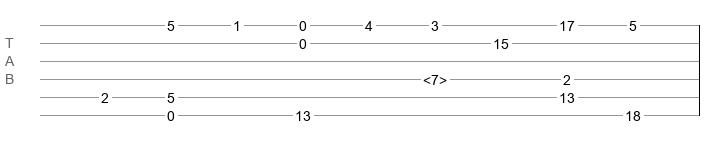0: (167, 108, 175, 118), (299, 18, 307, 28), (299, 36, 307, 46)
1: (233, 18, 241, 28)
13: (295, 108, 311, 118), (559, 90, 575, 100)
15: (493, 36, 509, 46)
17: (559, 18, 575, 28)
18: (625, 108, 641, 118)
2: (101, 90, 109, 100), (563, 72, 571, 82)
3: (431, 18, 439, 28)
4: (365, 18, 373, 28)
5: (167, 90, 175, 100), (167, 18, 175, 28), (629, 18, 637, 28)
harmonic: (423, 72, 447, 82)
